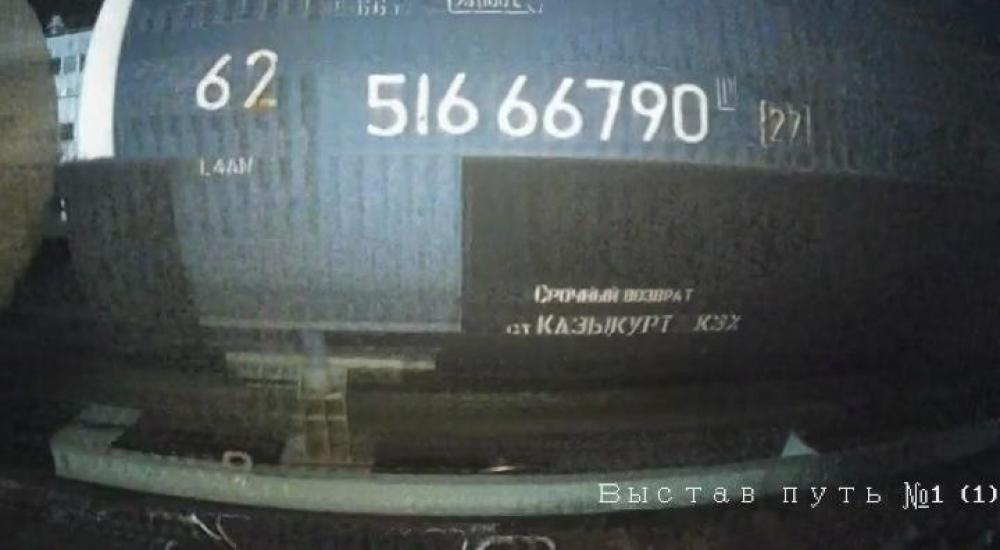Wagon-number: (361, 66, 715, 148)
